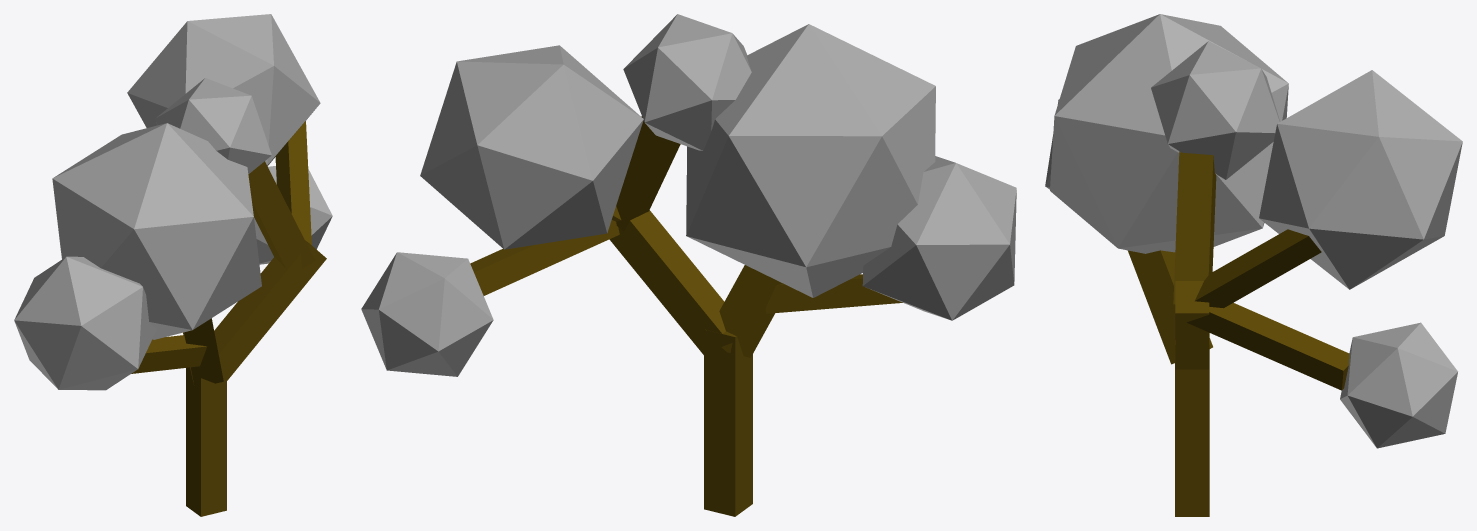
Rendered from Low poly Tree.fbx.
3 views of the same model, side by side, from view 1: azimuth 30°, elevation 25°; view 2: azimuth 150°, elevation 25°; view 3: azimuth 270°, elevation 25° (orthographic). The views are drawn at different scales.
Visible parts, largest first — view 1: polySurface6, polySurface7, polySurface5, polySurface10, pCube1, pCube2, pCube4, pCube3, pCube6, polySurface9, pCube5; view 2: polySurface6, polySurface5, polySurface7, polySurface9, polySurface10, pCube1, pCube2, pCube7, pCube4, pCube5, pCube6; view 3: polySurface6, polySurface5, polySurface10, polySurface9, pCube7, pCube1, pCube4, pCube3, pCube5, pCube2.
Boxes of the visible parts, x1=… form: polySurface6: x1=52, y1=123, x2=261, y2=339; polySurface7: x1=14, y1=256, x2=156, y2=390; polySurface5: x1=127, y1=14, x2=320, y2=166; polySurface10: x1=155, y1=78, x2=271, y2=174; pCube1: x1=186, y1=359, x2=226, y2=516; pCube2: x1=214, y1=240, x2=326, y2=380; pCube4: x1=248, y1=161, x2=314, y2=268; pCube3: x1=275, y1=121, x2=311, y2=244; pCube6: x1=131, y1=335, x2=207, y2=373; polySurface9: x1=254, y1=166, x2=332, y2=264; pCube5: x1=183, y1=318, x2=223, y2=387; polySurface6: x1=686, y1=24, x2=935, y2=297; polySurface5: x1=420, y1=45, x2=643, y2=249; polySurface7: x1=862, y1=156, x2=1016, y2=320; polySurface9: x1=361, y1=252, x2=493, y2=376; polySurface10: x1=623, y1=14, x2=751, y2=150; pCube1: x1=704, y1=329, x2=752, y2=516; pCube2: x1=609, y1=210, x2=725, y2=354; pCube7: x1=470, y1=220, x2=619, y2=295; pCube4: x1=616, y1=116, x2=680, y2=231; pCube5: x1=719, y1=265, x2=782, y2=357; pCube6: x1=765, y1=274, x2=902, y2=313; polySurface6: x1=1050, y1=14, x2=1288, y2=253; polySurface5: x1=1259, y1=70, x2=1462, y2=289; polySurface10: x1=1151, y1=41, x2=1279, y2=179; polySurface9: x1=1340, y1=322, x2=1457, y2=448; pCube7: x1=1187, y1=303, x2=1349, y2=390; pCube1: x1=1175, y1=333, x2=1209, y2=516; pCube4: x1=1173, y1=151, x2=1216, y2=304; pCube3: x1=1195, y1=229, x2=1321, y2=308; pCube5: x1=1127, y1=250, x2=1212, y2=364; pCube2: x1=1175, y1=281, x2=1209, y2=369.
Size of the model in its own units: 2798 by 2599 by 2080.
